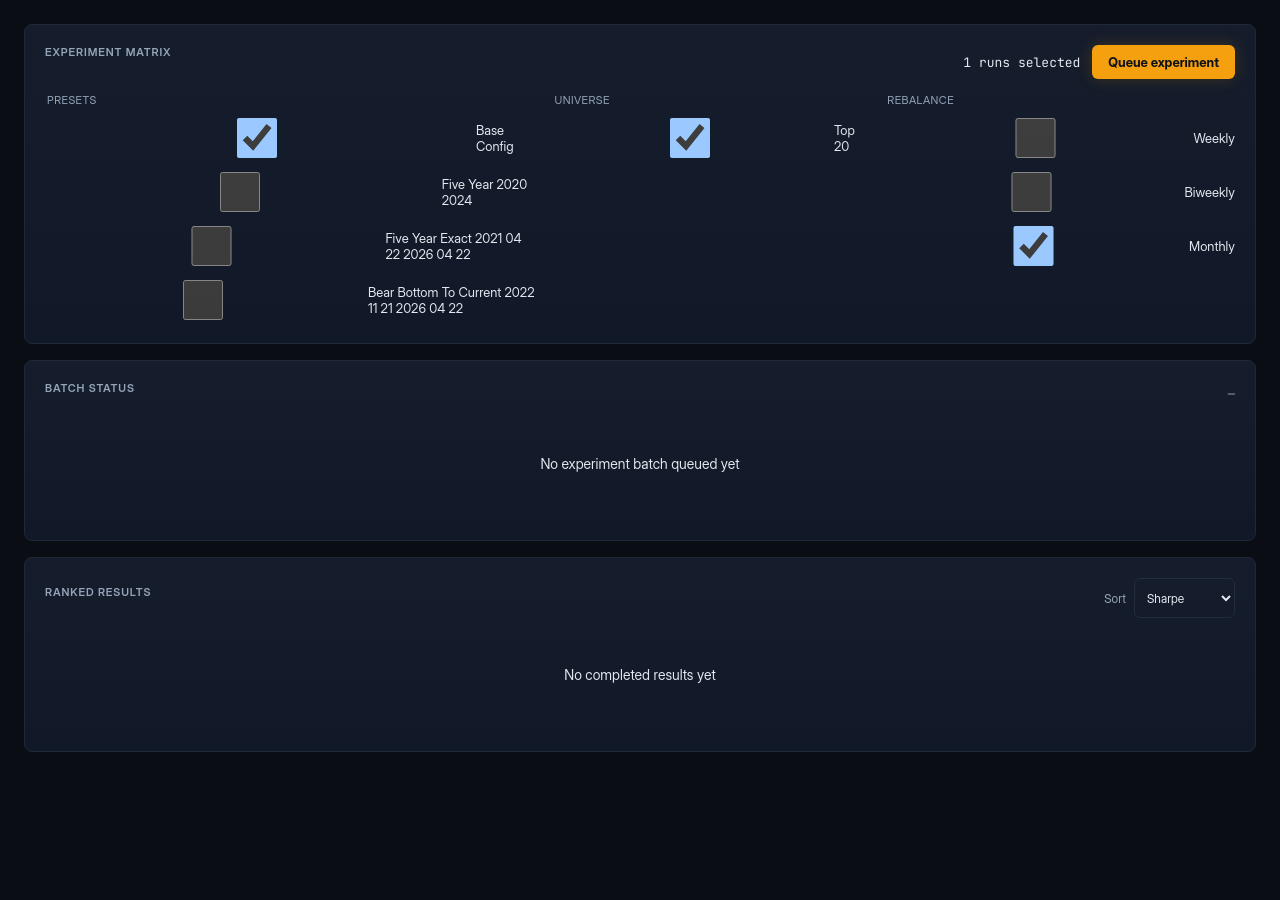
StrategyLabTab › surfaces a rate-limited (429) batch submission with the backend message
Step 1. Click the button "Queue experiment" → x=1164, y=62, box 1092,45 -> 1235,79
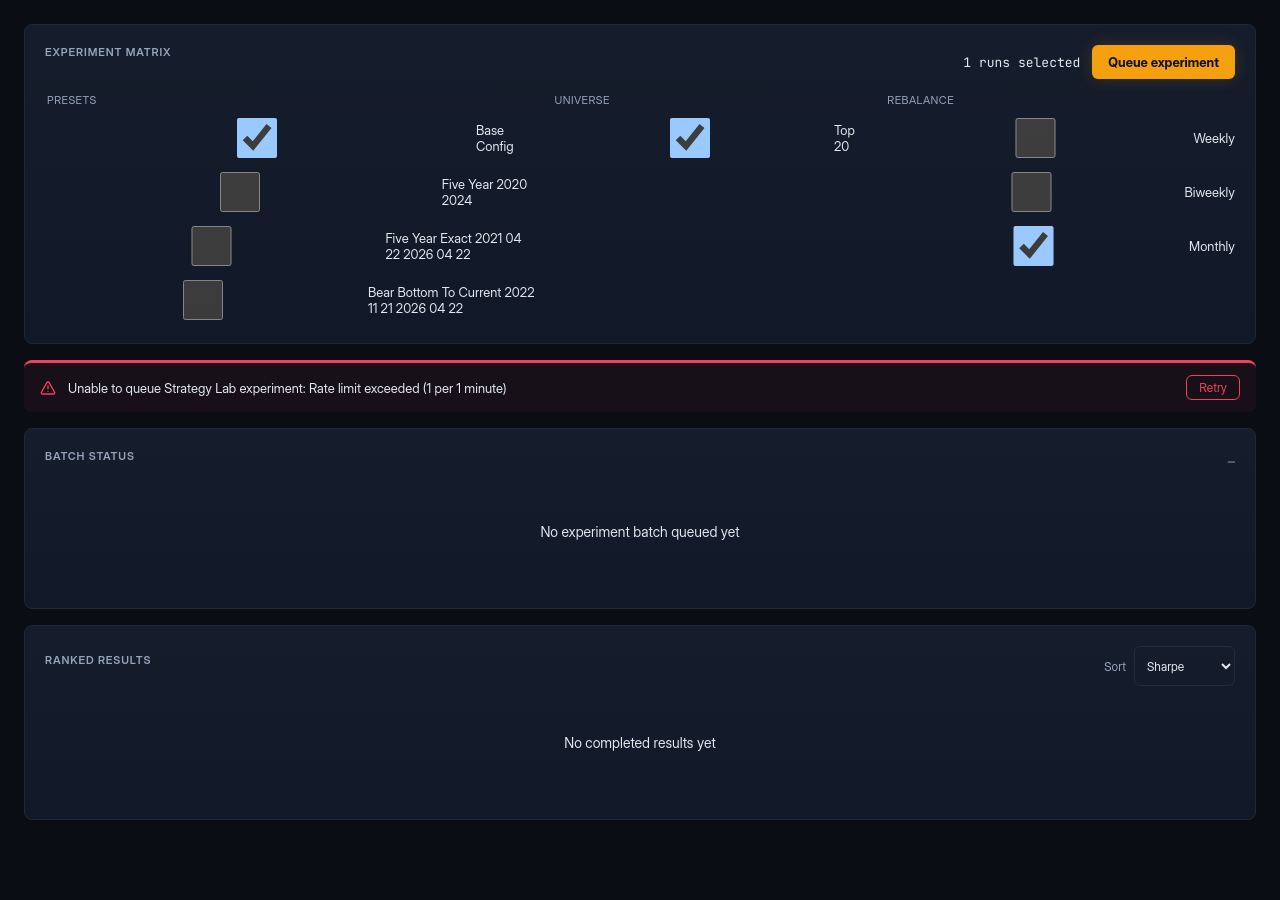
Now the 1st message shows "Unable to queue Strategy Lab experiment: Rate limit exceeded (1 per 1 minute)", box 68,380 -> 507,396
